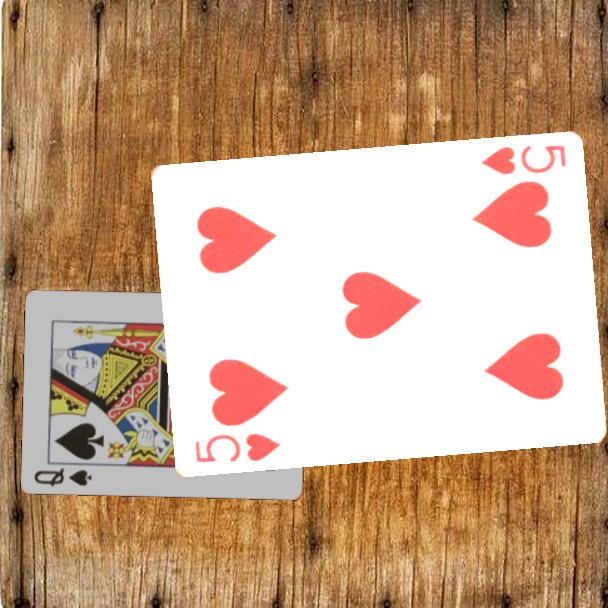h05: (191, 430, 283, 466), (478, 142, 568, 178)
s12: (31, 464, 95, 489)
